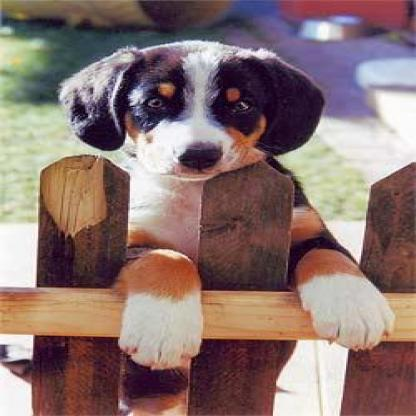Appenzeller: (55, 37, 394, 414)
